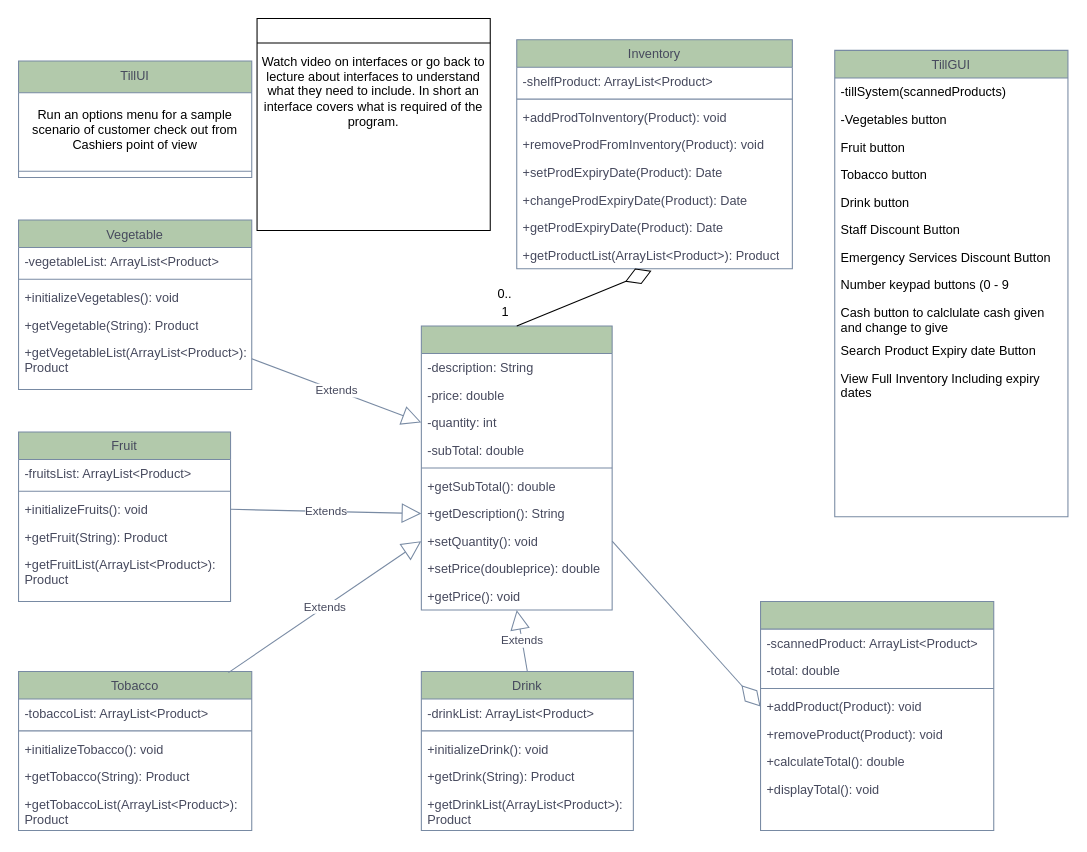
Some shapes in this 1087 by 852 pixel diagram are drawn without their labels. Each missing label, with the box of its shape:
Products: (420, 325, 612, 610)
tillSystem: (759, 600, 994, 831)
Vertical Container: (256, 17, 490, 231)
